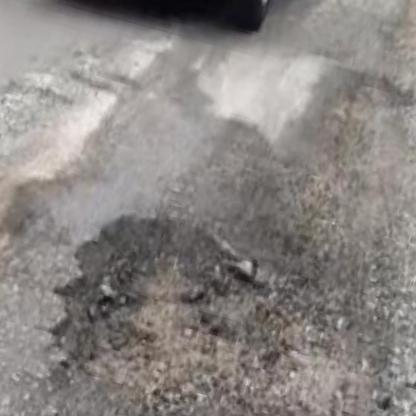pothole: (78, 227, 285, 404)
